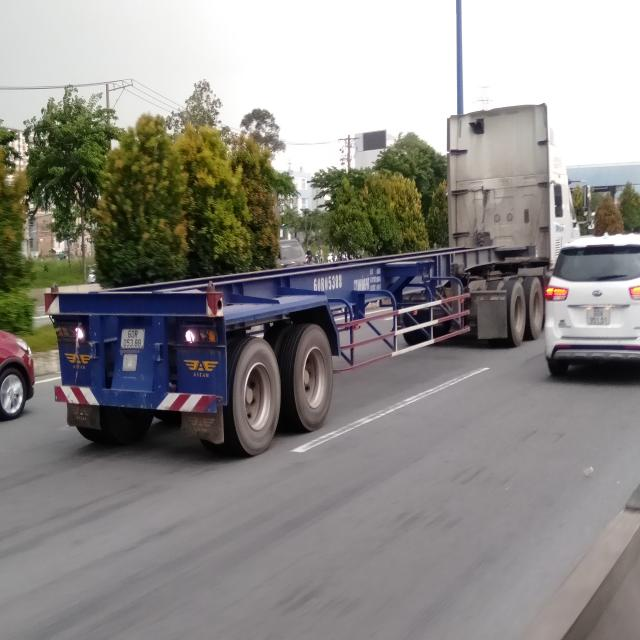bien_trang: (587, 308, 610, 327), (120, 330, 144, 348)
